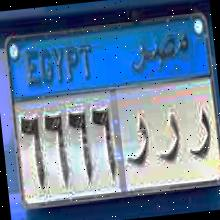6: (63, 102, 94, 188), (87, 100, 118, 182), (40, 106, 70, 190), (18, 111, 46, 196)
raa: (152, 110, 186, 170), (184, 105, 216, 168), (120, 113, 152, 170)
